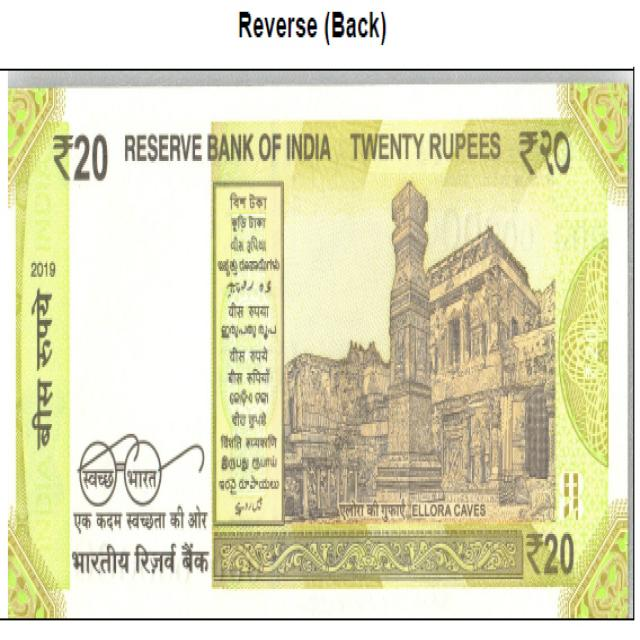20rs: (3, 68, 638, 629)
